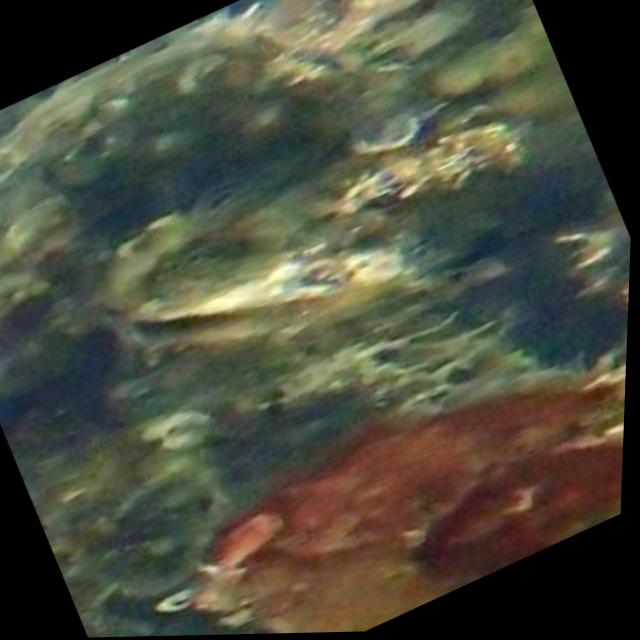Oyster-Closed: (104, 229, 477, 349), (258, 0, 419, 50)
Oyster-Indeterminate: (0, 36, 352, 234)
